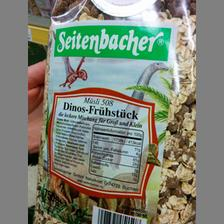Cerealien: (33, 4, 195, 222)
